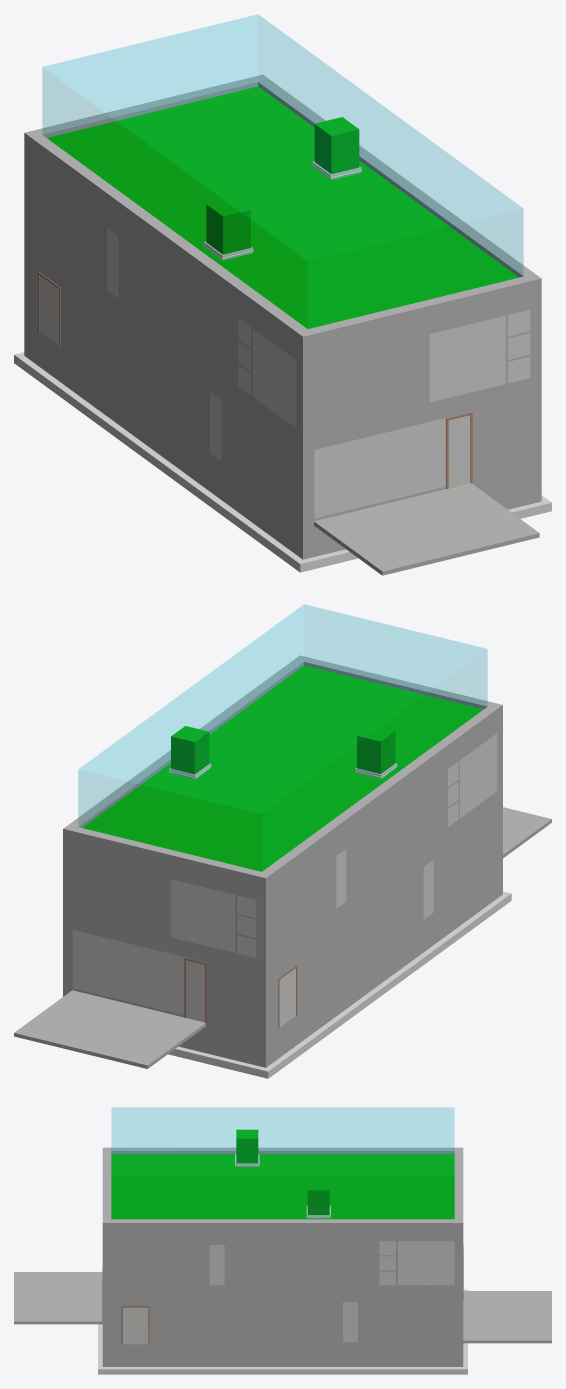
File: duplex.glb
The picture shows the model from 3 angles, top to bottom: view 1: azimuth 30°, elevation 25°; view 2: azimuth 150°, elevation 25°; view 3: azimuth 270°, elevation 25°; orthographic projection. The views are drawn at different scales.
Parts seen in each view (by area): view 1: product-ddaca082-9edd-4829-a689-a1a58a1761d2-body, product-335fc1b3-63ca-474d-9c21-6d5abbd83da0-body, product-9808fd7f-dc48-478e-9217-628e833d7af9-body, product-9808fd7f-dc48-478e-9217-628e833d5659-body, product-9808fd7f-dc48-478e-9217-628e833d5611-body, product-4c8d2570-3244-4e75-8237-a4372a40e878-body, product-9808fd7f-dc48-478e-9217-628e833d7d42-body, product-9808fd7f-dc48-478e-9217-628e833d4385-body, product-7b7032cc-b822-417b-9aea-6429f95f5e45-body, product-2da40d62-4698-436c-a2c3-95c49bb70d41-body, product-2da40d62-4698-436c-a2c3-95c49bb70ca4-body, product-7b7032cc-b822-417b-9aea-6429f95f233b-body (+14 smaller); view 2: product-ddaca082-9edd-4829-a689-a1a58a1761d2-body, product-335fc1b3-63ca-474d-9c21-6d5abbd83da0-body, product-9808fd7f-dc48-478e-9217-628e833d7af9-body, product-9808fd7f-dc48-478e-9217-628e833d5659-body, product-9808fd7f-dc48-478e-9217-628e833d568d-body, product-4c8d2570-3244-4e75-8237-a4372a40e82b-body, product-9808fd7f-dc48-478e-9217-628e833d7df1-body, product-9808fd7f-dc48-478e-9217-628e833d4385-body, product-7b7032cc-b822-417b-9aea-6429f95f5d59-body, product-2da40d62-4698-436c-a2c3-95c49bb70d41-body, product-2da40d62-4698-436c-a2c3-95c49bb70c3c-body, product-7b7032cc-b822-417b-9aea-6429f95f24c3-body (+13 smaller); view 3: product-ddaca082-9edd-4829-a689-a1a58a1761d2-body, product-9808fd7f-dc48-478e-9217-628e833d7d12-body, product-9808fd7f-dc48-478e-9217-628e833d56c9-body, product-335fc1b3-63ca-474d-9c21-6d5abbd83da0-body, product-9808fd7f-dc48-478e-9217-628e833d4257-body, product-2da40d62-4698-436c-a2c3-95c49bb70cfa-body, product-4c8d2570-3244-4e75-8237-a4372a40e82b-body, product-4c8d2570-3244-4e75-8237-a4372a40e878-body, product-2e3c415a-d885-4964-a589-bb0941bdd167-body, product-7b7032cc-b822-417b-9aea-6429f95fa74d-body, product-2da40d62-4698-436c-a2c3-95c49bb70d41-body, product-7b7032cc-b822-417b-9aea-6429f95f5881-body (+8 smaller).
Part boxes in pixels (x1,y1,x2,y2): product-ddaca082-9edd-4829-a689-a1a58a1761d2-body: (47,86,518,328); product-335fc1b3-63ca-474d-9c21-6d5abbd83da0-body: (42,14,523,275); product-9808fd7f-dc48-478e-9217-628e833d7af9-body: (31,237,296,518); product-9808fd7f-dc48-478e-9217-628e833d5659-body: (24,150,302,435); product-9808fd7f-dc48-478e-9217-628e833d5611-body: (303,296,541,436); product-4c8d2570-3244-4e75-8237-a4372a40e878-body: (314,483,539,575); product-9808fd7f-dc48-478e-9217-628e833d7d42-body: (296,381,530,524); product-9808fd7f-dc48-478e-9217-628e833d4385-body: (31,325,296,554); product-7b7032cc-b822-417b-9aea-6429f95f5e45-body: (314,418,445,518); product-2da40d62-4698-436c-a2c3-95c49bb70d41-body: (31,135,307,348); product-2da40d62-4698-436c-a2c3-95c49bb70ca4-body: (296,276,530,353); product-7b7032cc-b822-417b-9aea-6429f95f233b-body: (429,316,505,402); product-ddaca082-9edd-4829-a689-a1a58a1761d2-body: (82,665,483,871); product-335fc1b3-63ca-474d-9c21-6d5abbd83da0-body: (78,604,487,827); product-9808fd7f-dc48-478e-9217-628e833d7af9-body: (271,794,497,1032); product-9808fd7f-dc48-478e-9217-628e833d5659-body: (266,720,502,962); product-9808fd7f-dc48-478e-9217-628e833d568d-body: (63,843,265,962); product-4c8d2570-3244-4e75-8237-a4372a40e82b-body: (14,990,205,1068); product-9808fd7f-dc48-478e-9217-628e833d7df1-body: (63,913,271,1037); product-9808fd7f-dc48-478e-9217-628e833d4385-body: (271,869,497,1063); product-7b7032cc-b822-417b-9aea-6429f95f5d59-body: (72,930,184,1015); product-2da40d62-4698-436c-a2c3-95c49bb70d41-body: (262,706,497,888); product-2da40d62-4698-436c-a2c3-95c49bb70c3c-body: (63,825,271,892); product-7b7032cc-b822-417b-9aea-6429f95f24c3-body: (171,879,235,952); product-ddaca082-9edd-4829-a689-a1a58a1761d2-body: (111,1154,454,1219); product-9808fd7f-dc48-478e-9217-628e833d7d12-body: (102,1287,454,1344); product-9808fd7f-dc48-478e-9217-628e833d56c9-body: (102,1234,463,1287); product-335fc1b3-63ca-474d-9c21-6d5abbd83da0-body: (111,1107,454,1153); product-9808fd7f-dc48-478e-9217-628e833d4257-body: (102,1344,454,1366); product-2da40d62-4698-436c-a2c3-95c49bb70cfa-body: (102,1219,454,1233); product-4c8d2570-3244-4e75-8237-a4372a40e82b-body: (463,1291,551,1343); product-4c8d2570-3244-4e75-8237-a4372a40e878-body: (14,1272,102,1324); product-2e3c415a-d885-4964-a589-bb0941bdd167-body: (98,1361,467,1374); product-7b7032cc-b822-417b-9aea-6429f95fa74d-body: (398,1241,454,1285); product-2da40d62-4698-436c-a2c3-95c49bb70d41-body: (111,1147,454,1153); product-7b7032cc-b822-417b-9aea-6429f95f5881-body: (123,1307,148,1344).
Size of the model in its own units: 9.28 by 10.55 by 26.57.
